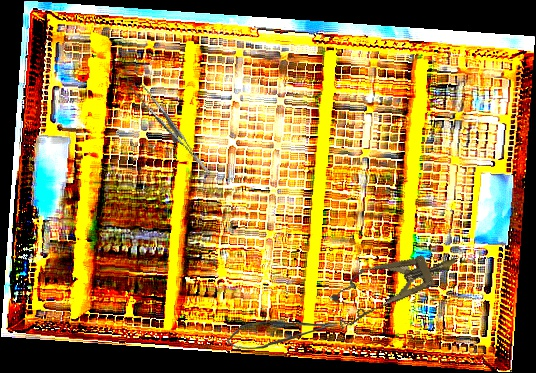Micro Scissor: (225, 319, 339, 351)
Speculum: (324, 236, 465, 332)
Tissue Forceps: (132, 77, 210, 184)
